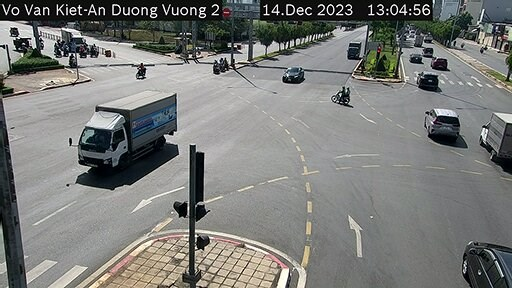car: (461, 248, 512, 284), (426, 108, 459, 136), (284, 64, 307, 85), (415, 73, 439, 89), (429, 53, 451, 68), (411, 52, 421, 64), (422, 46, 432, 55)
motorbike: (329, 86, 350, 107), (135, 63, 148, 80)
truck: (72, 86, 182, 178), (475, 100, 512, 170), (340, 37, 361, 61)
